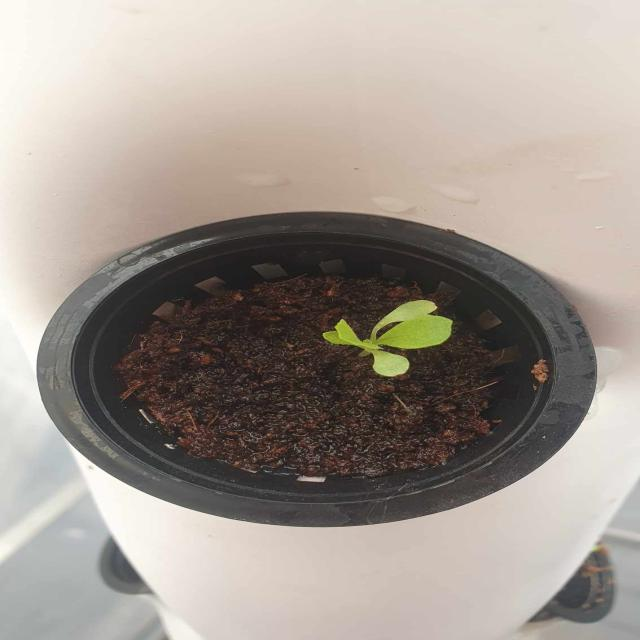Lettuce-Not-Ready-to-Harvest: (300, 278, 460, 382)
